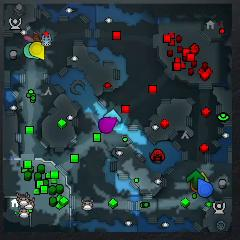p1: (198, 178, 213, 198)
p2: (24, 42, 37, 59)
p3: (99, 117, 117, 133)
p4: (29, 41, 45, 60)
p5: (191, 183, 198, 193)
x1: (24, 32, 39, 42)
x2: (201, 171, 208, 183)
x3: (104, 108, 122, 122)
x4: (187, 170, 204, 188)
x5: (33, 33, 41, 43)
